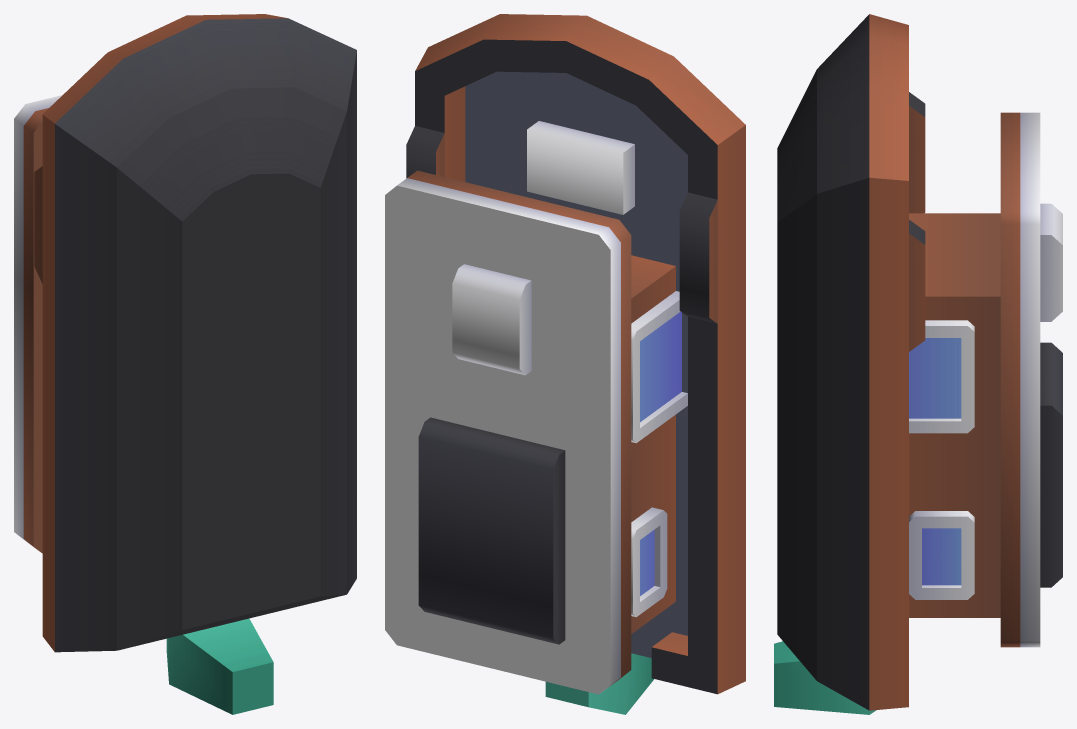
File: boat-house-b@boat.obj
The picture shows the model from 3 angles, left to right: view 1: azimuth 30°, elevation 25°; view 2: azimuth 150°, elevation 25°; view 3: azimuth 270°, elevation 25°; orthographic projection. The views are drawn at different scales.
Parts seen in each view (by area): view 1: boat-house-b; view 2: boat-house-b; view 3: boat-house-b.
Part boxes in pixels (x1,y1,x2,y2): boat-house-b: (14,14,356,714); boat-house-b: (385,14,745,714); boat-house-b: (774,14,1062,714).
Bounding box in the file's own units: 2.68 × 5.55 × 2.2.
1 material, 1 textured.
